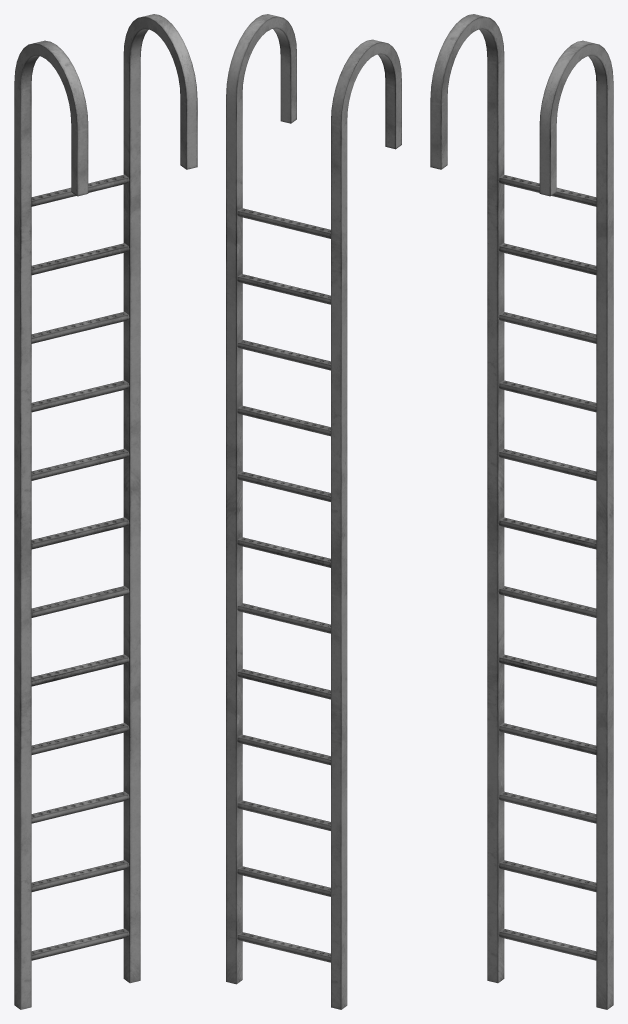
Rendered from SM_RoofLadder.glb.
3 views of the same model, side by side, from view 1: azimuth 30°, elevation 25°; view 2: azimuth 150°, elevation 25°; view 3: azimuth 330°, elevation 25° (orthographic). The views are drawn at different scales.
Visible parts, largest first — view 1: Roof Ladder; view 2: Roof Ladder; view 3: Roof Ladder.
Part boxes in pixels (x1,y1,x2,y2): Roof Ladder: (14,14,197,1009); Roof Ladder: (226,14,401,1009); Roof Ladder: (430,14,613,1009).
Bounding box in the file's own units: 0.55 × 4.29 × 0.5.
Materials: 1 (1 with a texture image).
